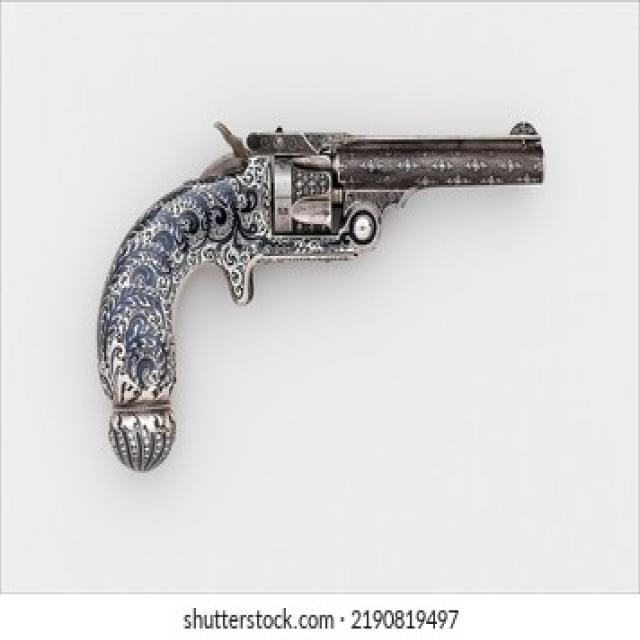handgun: (100, 125, 548, 473)
